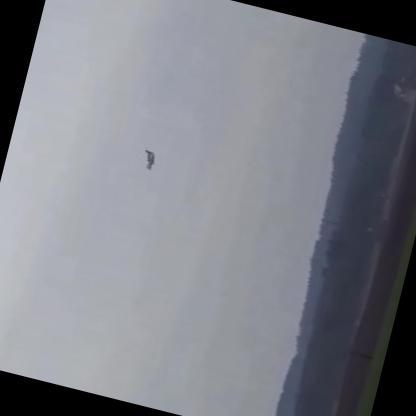plane: (140, 149, 158, 172)
